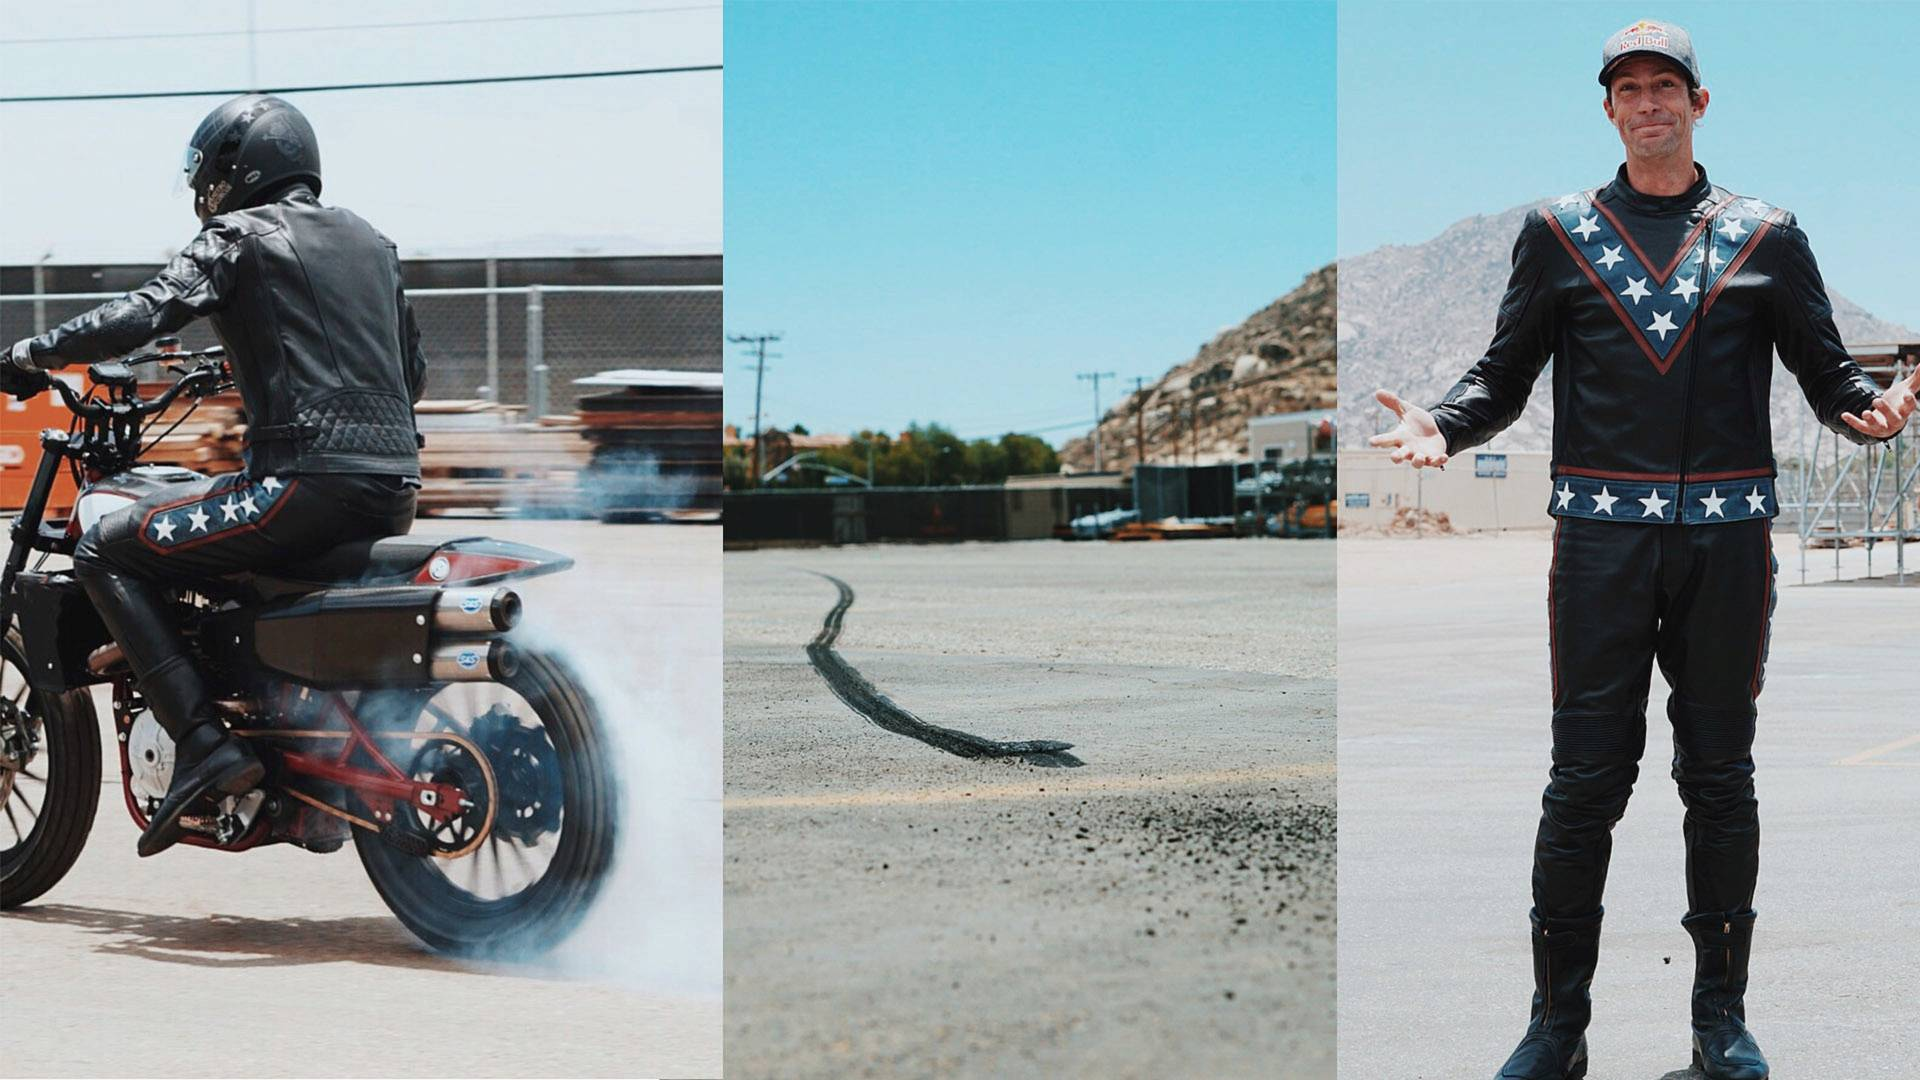helmet: (174, 80, 336, 223)
